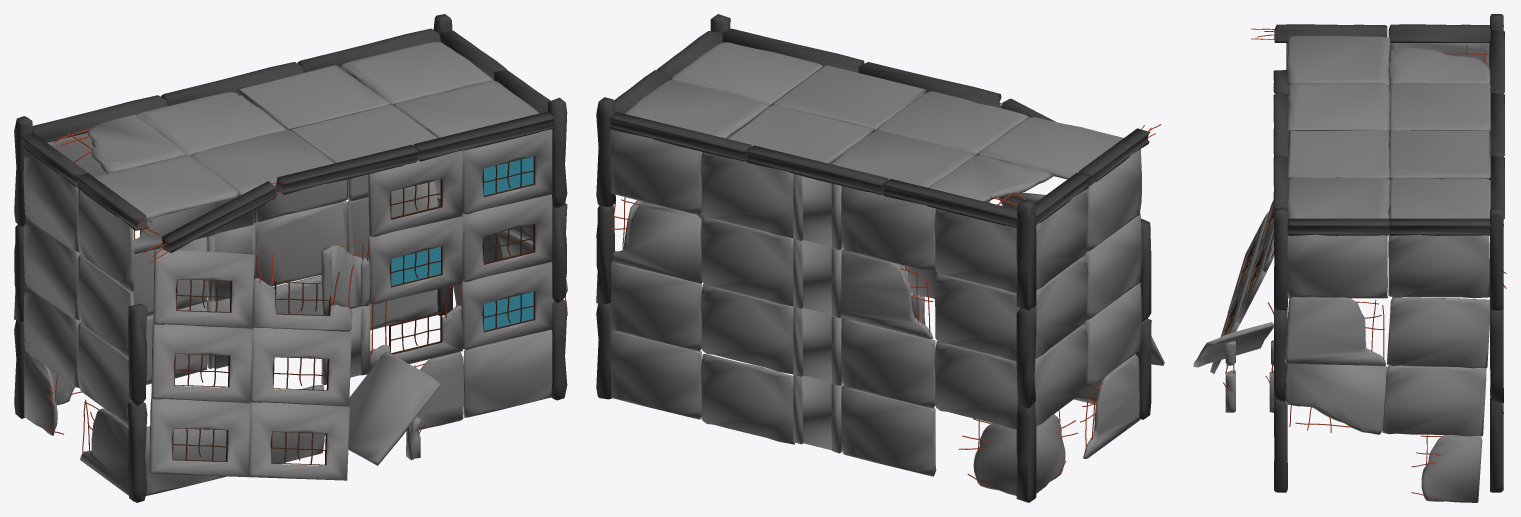
Rendered from SM_building_ruins_07.fbx.
3 views of the same model, side by side, from view 1: azimuth 30°, elevation 25°; view 2: azimuth 150°, elevation 25°; view 3: azimuth 270°, elevation 25° (orthographic). The views are drawn at different scales.
Visible parts, largest first — view 1: Object32617; view 2: Object32617; view 3: Object32617.
Part boxes in pixels (x1,y1,x2,y2): Object32617: (14, 14, 567, 502); Object32617: (596, 14, 1164, 502); Object32617: (1193, 14, 1506, 502).
Size of the model in its own units: 958 by 618 by 608.
